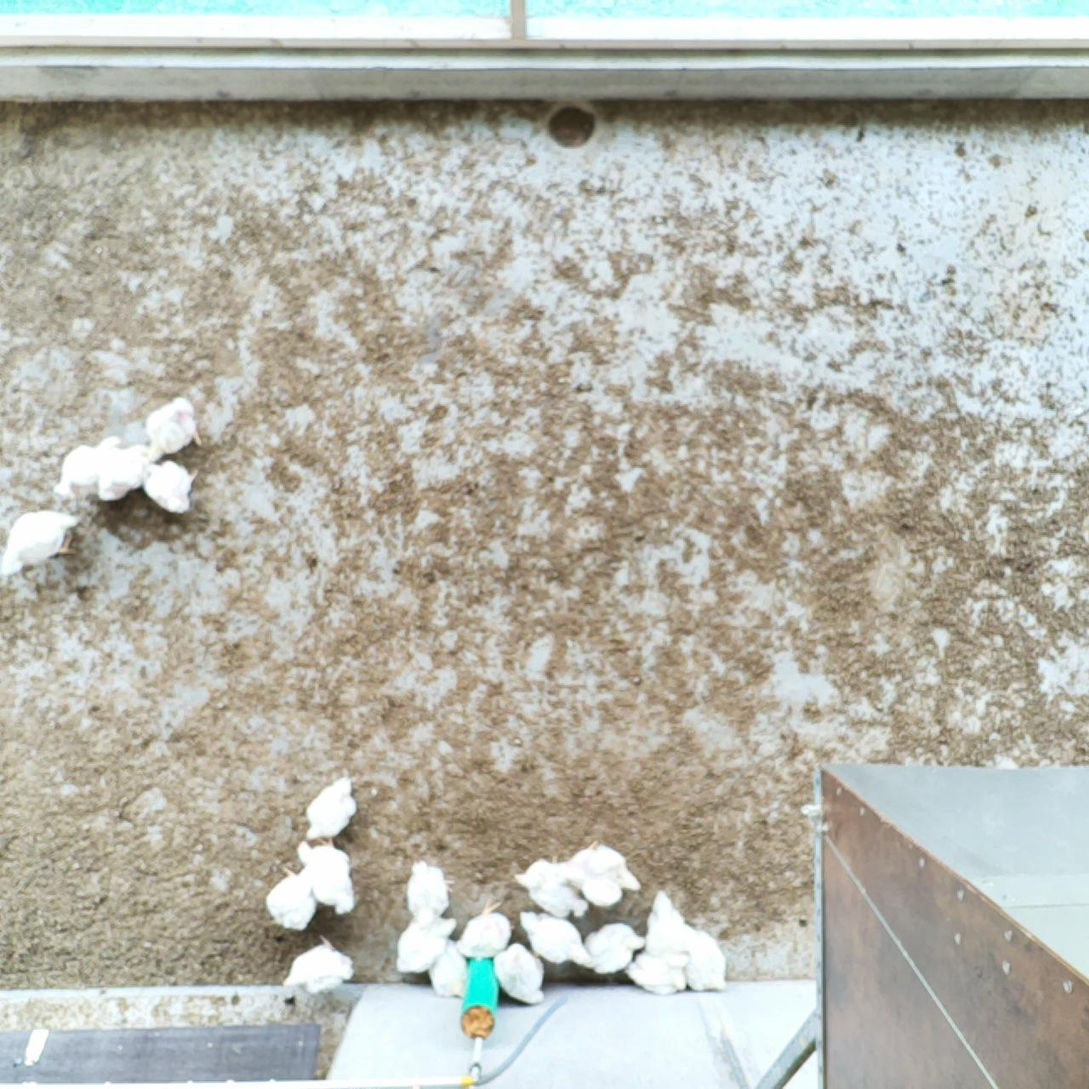chicken: (0, 505, 82, 582), (561, 841, 647, 912), (510, 851, 593, 920), (278, 931, 359, 999), (295, 835, 359, 920), (51, 433, 126, 502), (517, 908, 596, 970), (392, 912, 460, 977), (96, 439, 160, 507), (145, 394, 205, 466), (643, 887, 695, 967), (489, 940, 549, 1008), (262, 862, 319, 932), (582, 919, 648, 979), (304, 775, 361, 842), (456, 898, 516, 961), (403, 859, 458, 925), (143, 457, 200, 518), (679, 928, 731, 994), (625, 950, 690, 997), (426, 936, 470, 999)
